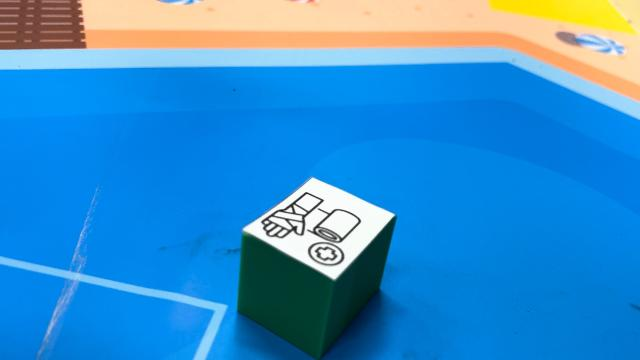bandage: (236, 176, 397, 358)
